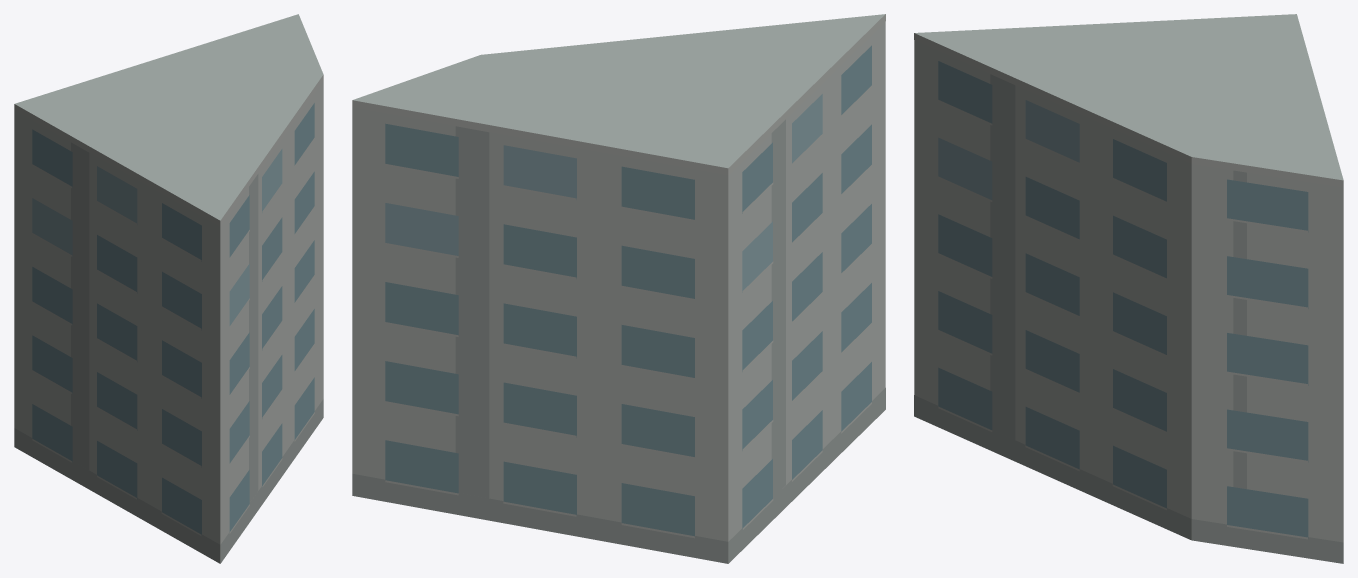
The model's file is survey-upis-32894108.glb.
3 views of the same model, side by side, from view 1: azimuth 30°, elevation 25°; view 2: azimuth 150°, elevation 25°; view 3: azimuth 270°, elevation 25° (orthographic). The views are drawn at different scales.
Parts seen in each view (by area): view 1: survey-upis-32894108.tmp; view 2: survey-upis-32894108.tmp; view 3: survey-upis-32894108.tmp.
Part boxes in pixels (x1,y1,x2,y2): survey-upis-32894108.tmp: [14, 14, 323, 563]; survey-upis-32894108.tmp: [352, 14, 885, 563]; survey-upis-32894108.tmp: [914, 14, 1343, 563].
Bounding box in the file's own units: 12.3 × 13.2 × 13.41.
